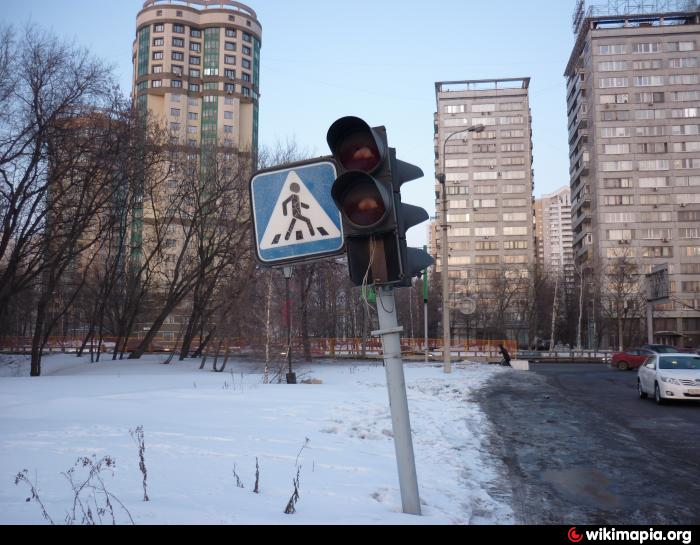tl: (316, 113, 438, 286)
